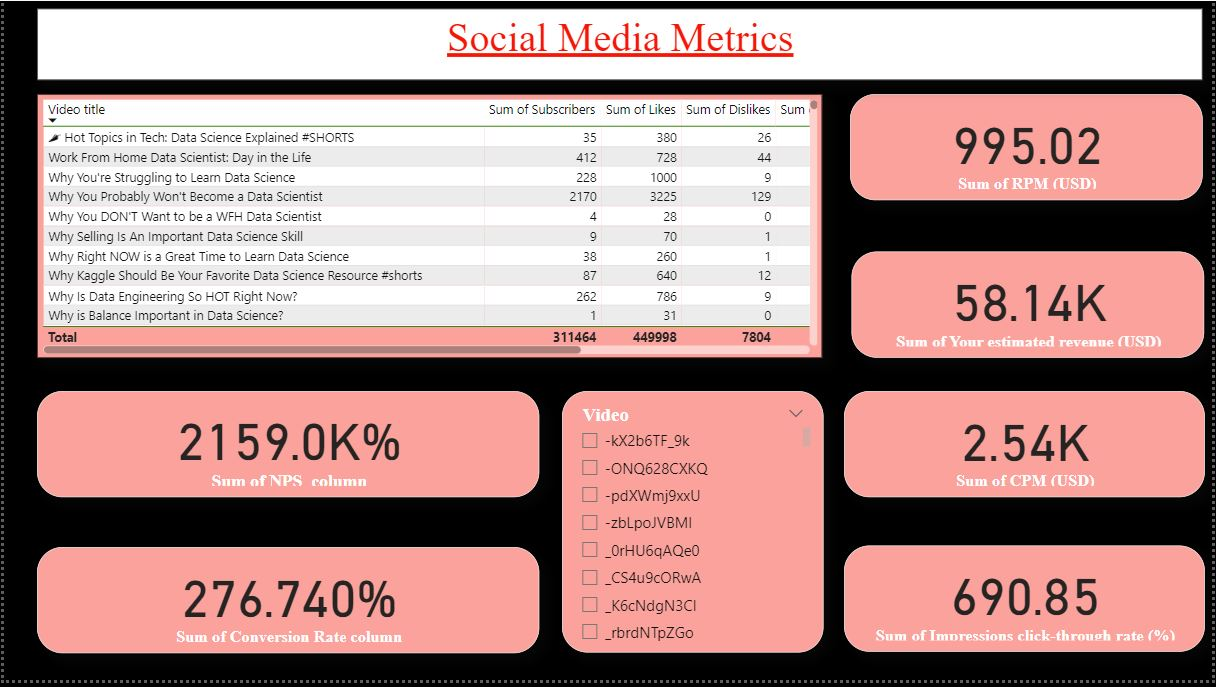

This screenshot's page, from the dashboard's own definition file:
{"tool":"powerbi","page":{"name":"Page 4","canvas":[1280,720],"ordinal":3},"visuals":[{"type":"tableEx","fields":{"Values":["Aggregated_Metrics_By_Video.Video title","Sum(Aggregated_Metrics_By_Video.Subscribers)","Sum(Aggregated_Metrics_By_Video.Likes)","Sum(Aggregated_Metrics_By_Video.Dislikes)","Sum(Aggregated_Metrics_By_Video.Comments added)","Sum(Aggregated_Metrics_By_Video.Shares)","Sum(Aggregated_Metrics_By_Video.Impressions)"]},"box":[35.7,98.6,832.9,280],"z":0},{"type":"card","fields":{"Values":["Sum(Aggregated_Metrics_By_Video.NPS_column)"]},"box":[35.7,414.3,532.9,112.9],"z":1000},{"type":"card","fields":{"Values":["Sum(Aggregated_Metrics_By_Video.Conversion Rate column)"]},"box":[35.7,578.6,532.9,112.9],"z":2000},{"type":"slicer","fields":{"Values":["Aggregated_Metrics_By_Video.Video"]},"box":[591.4,414.3,277.1,277.1],"z":3000},{"type":"card","fields":{"Values":["Sum(Aggregated_Metrics_By_Video.Impressions click-through rate (%))"]},"box":[890,577.1,382.9,112.9],"z":4000},{"type":"card","fields":{"Values":["Sum(Aggregated_Metrics_By_Video.RPM (USD))"]},"box":[897.1,98.6,374.3,112.9],"z":5000},{"type":"card","fields":{"Values":["Sum(Aggregated_Metrics_By_Video.Your estimated revenue (USD))"]},"box":[898.6,265.7,374.3,112.9],"z":6000},{"type":"card","fields":{"Values":["Sum(Aggregated_Metrics_By_Video.CPM (USD))"]},"box":[890,414.3,382.9,112.9],"z":7000},{"type":"textbox","box":[35.7,8.6,1235.7,75.7],"z":8000}]}

Visuals, with their boxes in screenshot pixels (x1, y1, x2, y2), scaled from the page's 1280x720 canvas onto the 1216x687 screenshot:
tableEx - Aggregated_Metrics_By_Video.Video title x Sum(Aggregated_Metrics_By_Video.Subscribers): left=34, top=94, right=825, bottom=361
card - Sum(Aggregated_Metrics_By_Video.NPS_column): left=34, top=395, right=540, bottom=503
card - Sum(Aggregated_Metrics_By_Video.Conversion Rate column): left=34, top=552, right=540, bottom=660
slicer - Aggregated_Metrics_By_Video.Video: left=562, top=395, right=825, bottom=660
card - Sum(Aggregated_Metrics_By_Video.Impressions click-through rate (%)): left=846, top=551, right=1209, bottom=658
card - Sum(Aggregated_Metrics_By_Video.RPM (USD)): left=852, top=94, right=1208, bottom=202
card - Sum(Aggregated_Metrics_By_Video.Your estimated revenue (USD)): left=854, top=254, right=1209, bottom=361
card - Sum(Aggregated_Metrics_By_Video.CPM (USD)): left=846, top=395, right=1209, bottom=503
textbox: left=34, top=8, right=1208, bottom=80
